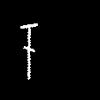double_crochet: (21, 24, 37, 79)
